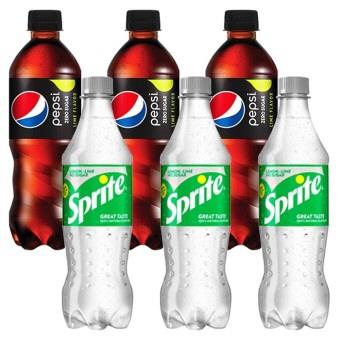sprite_zero: (154, 70, 239, 334), (253, 72, 339, 331), (60, 74, 139, 324)
